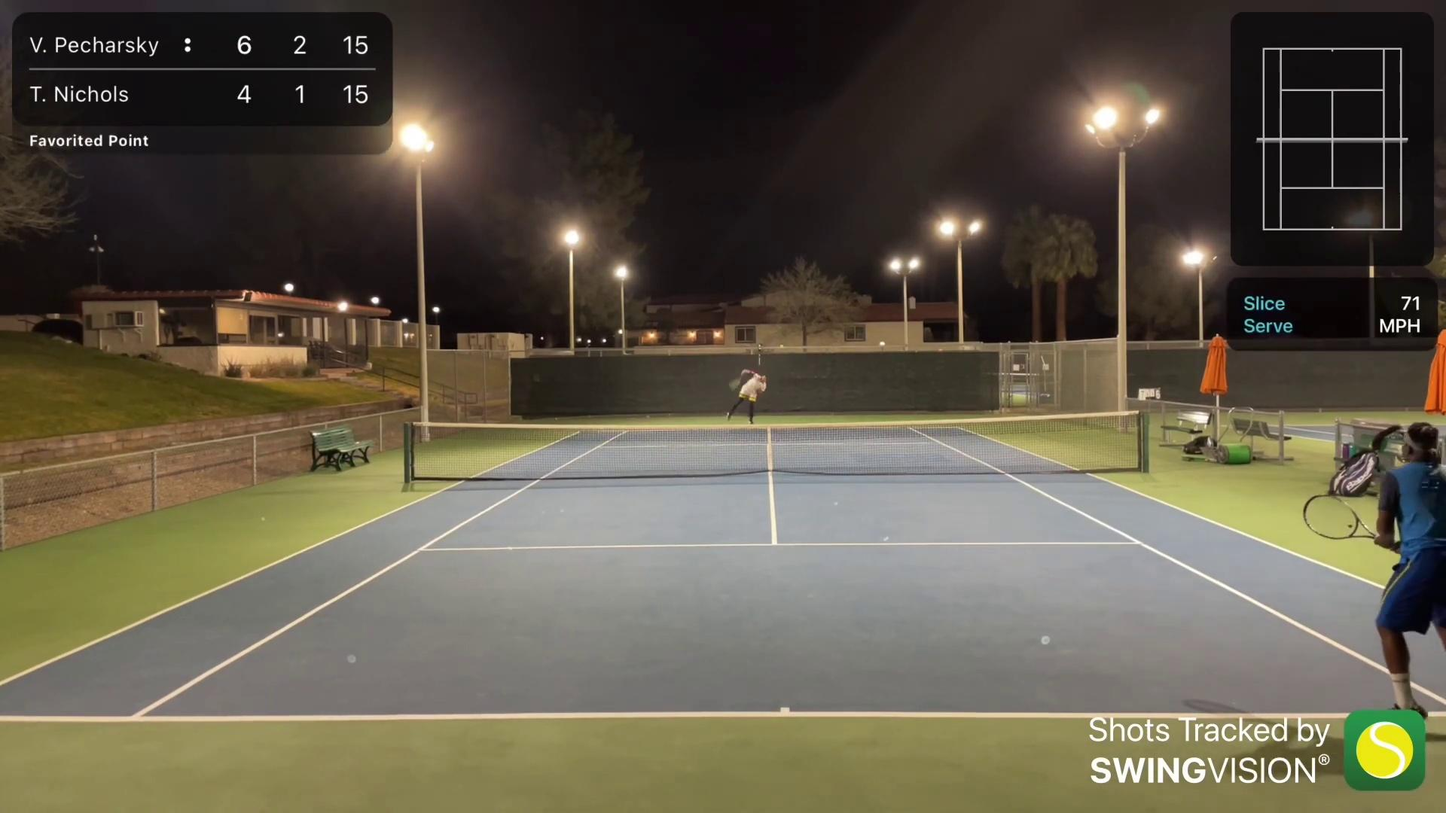ball: (779, 343, 786, 350)
